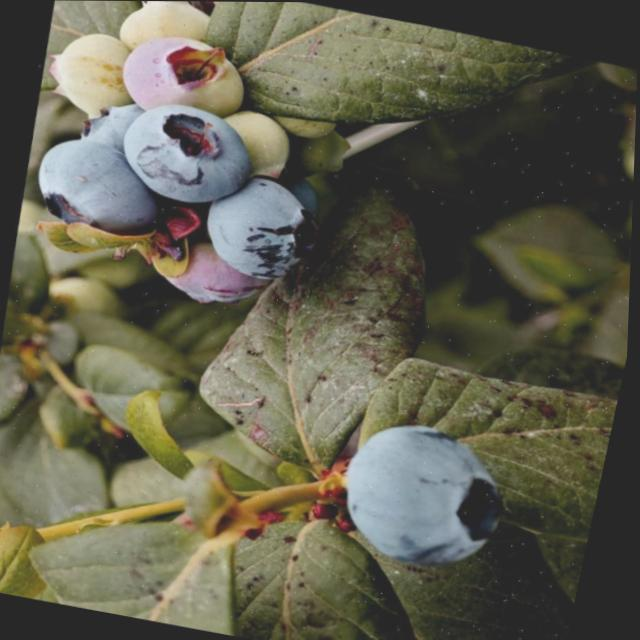RipeBlueBerry: (323, 402, 525, 578), (105, 87, 265, 214), (189, 165, 328, 286), (23, 125, 170, 239)
Semi-RipeBlueBerry: (111, 20, 256, 125), (150, 221, 279, 313)
UnripeBlueBerry: (35, 19, 139, 122)
